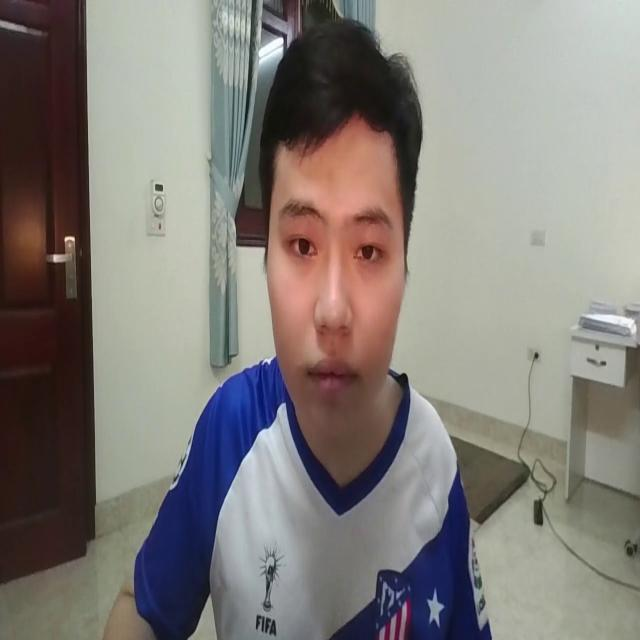student: (102, 18, 506, 640)
